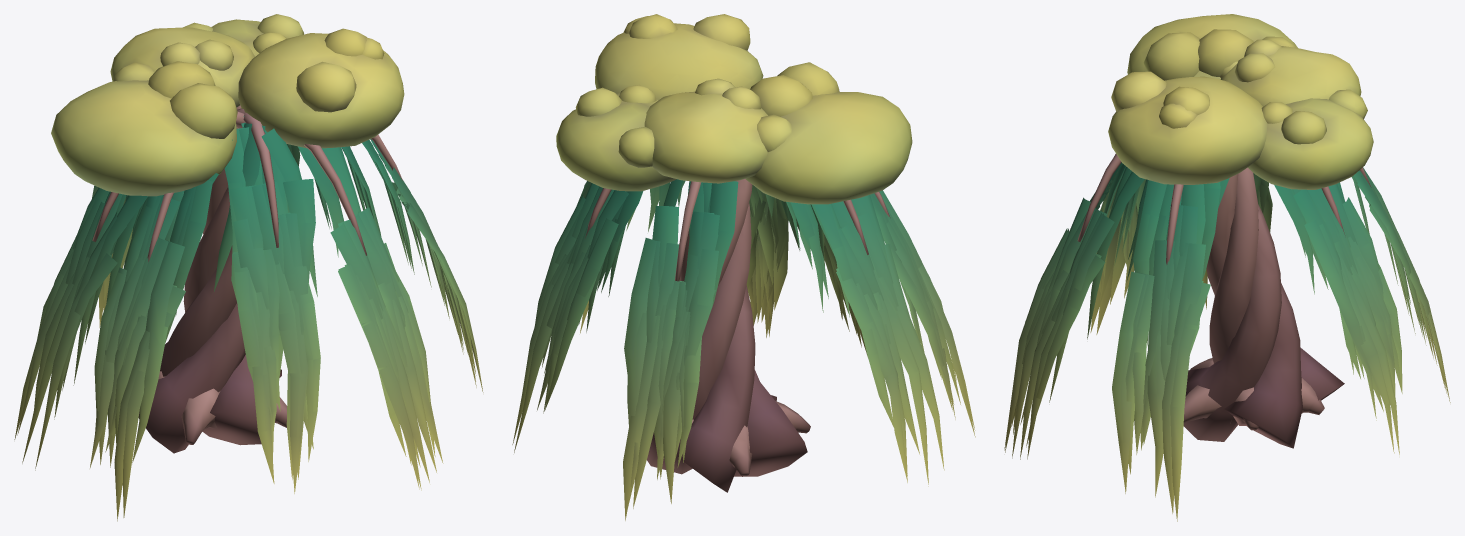
File: verdant_tree_spiralwillow_c.glb
3 renders of one model, left to right at view 1: azimuth 30°, elevation 25°; view 2: azimuth 150°, elevation 25°; view 3: azimuth 270°, elevation 25°, orthographic. The views are drawn at different scales.
Visible parts, largest first — view 1: verdant_tree_spiralwillow_c; view 2: verdant_tree_spiralwillow_c; view 3: verdant_tree_spiralwillow_c.
Boxes of the visible parts, x1=… form: verdant_tree_spiralwillow_c: x1=14, y1=14, x2=483, y2=521; verdant_tree_spiralwillow_c: x1=512, y1=14, x2=975, y2=520; verdant_tree_spiralwillow_c: x1=1004, y1=14, x2=1450, y2=521.
Size of the model in its own units: 7.88 by 7.19 by 7.37.
